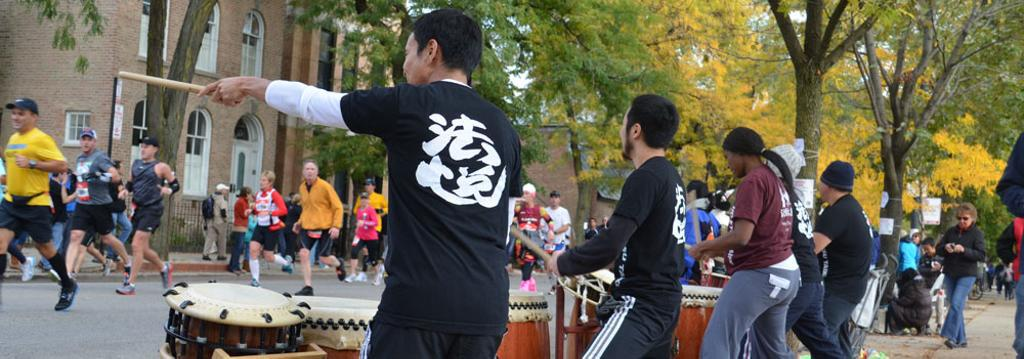face: (403, 31, 430, 85), (621, 109, 641, 159), (724, 149, 745, 177), (12, 108, 32, 129), (959, 211, 972, 228), (82, 136, 95, 152), (141, 144, 154, 160), (304, 165, 317, 180), (260, 176, 269, 190), (524, 190, 533, 203), (924, 244, 933, 256), (550, 195, 559, 205), (365, 184, 373, 193), (361, 197, 368, 206), (914, 234, 919, 242), (591, 220, 596, 227)
